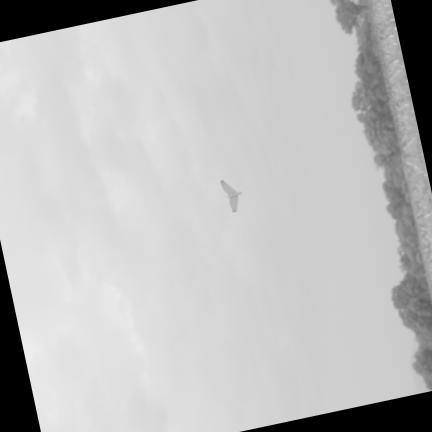Shahed: (221, 180, 241, 212)
